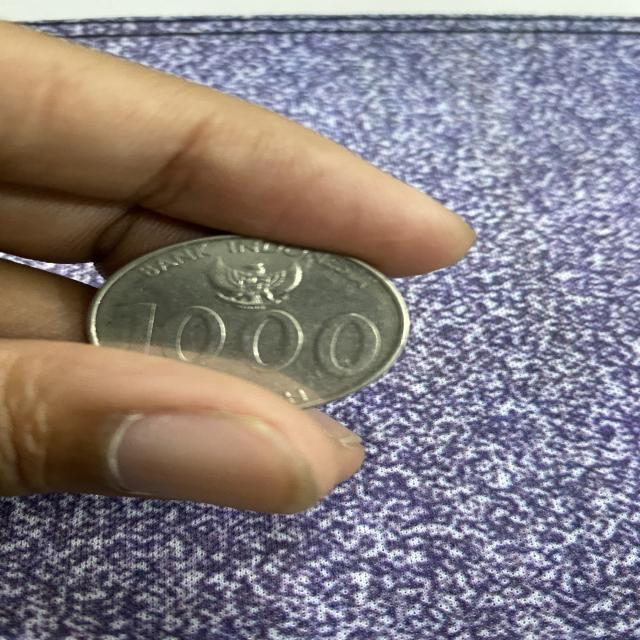1000-angklung: (89, 235, 409, 408)
